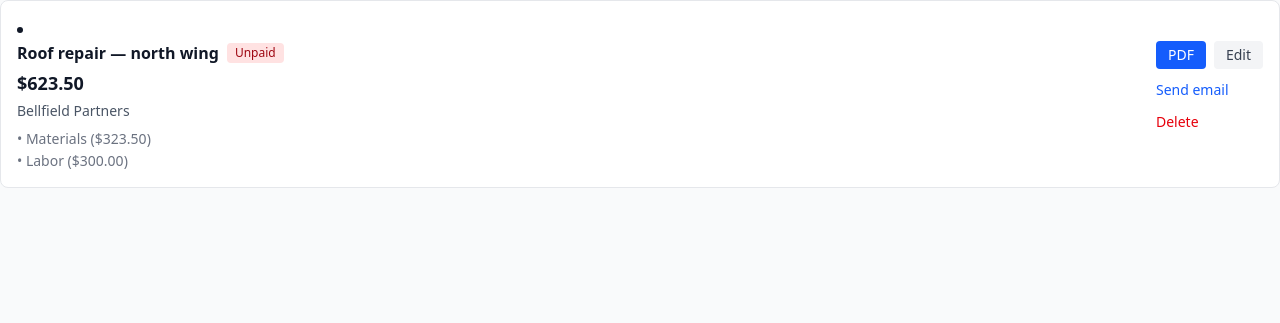
Test: InvoiceRow › hides the edit form and resets state when Cancel is clicked
What coordinates should you click on to do the following:
click the button "Edit"
I would click on:
 (1238, 55)
Its box is [1214,41,1263,69].
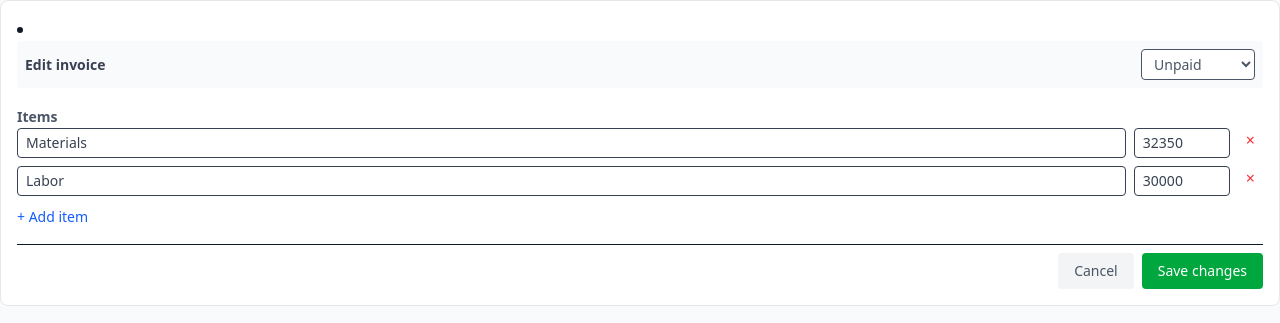
What coordinates should you click on to do the following:
click the button "Cancel"
I would click on:
 (1096, 271)
Its box is [1058,253,1134,289].
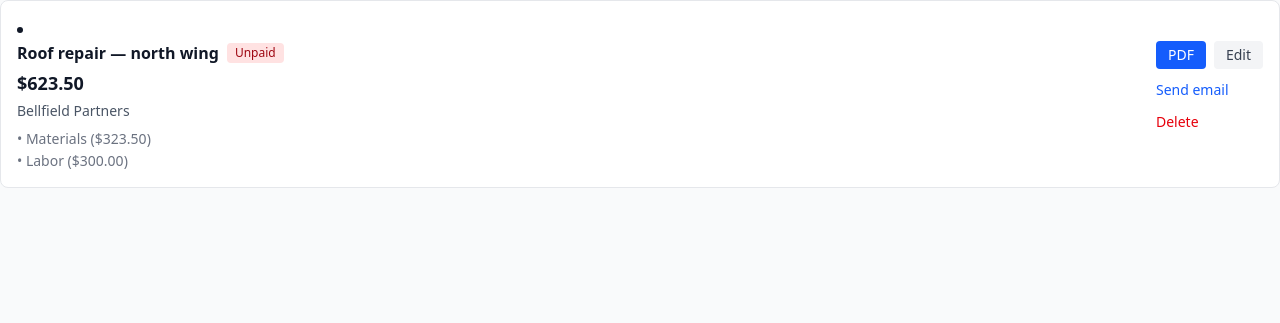
Expected: the text "Edit invoice" is gone
Expected: the text "Roof repair — north wing" is shown, [17,41,219,65]
